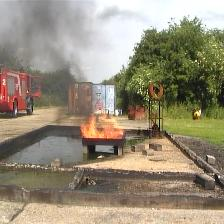fire: (81, 108, 124, 139)
